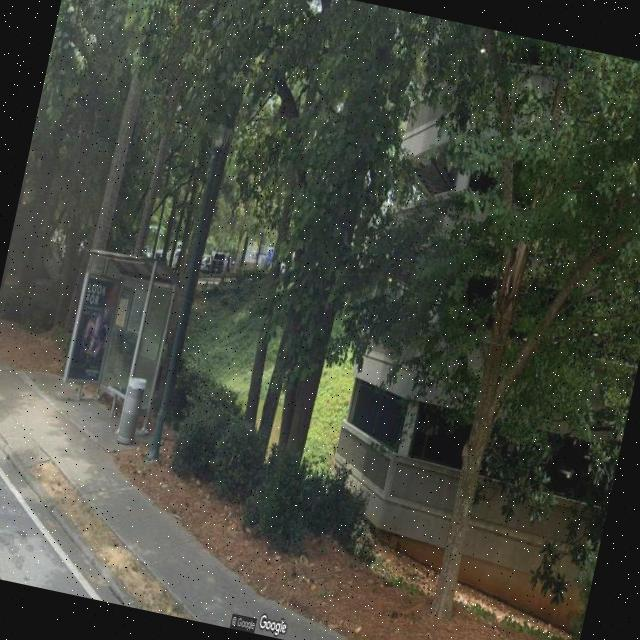seating: (94, 381, 127, 420)
shelter: (46, 242, 176, 432)
trash_can: (115, 371, 148, 446)
